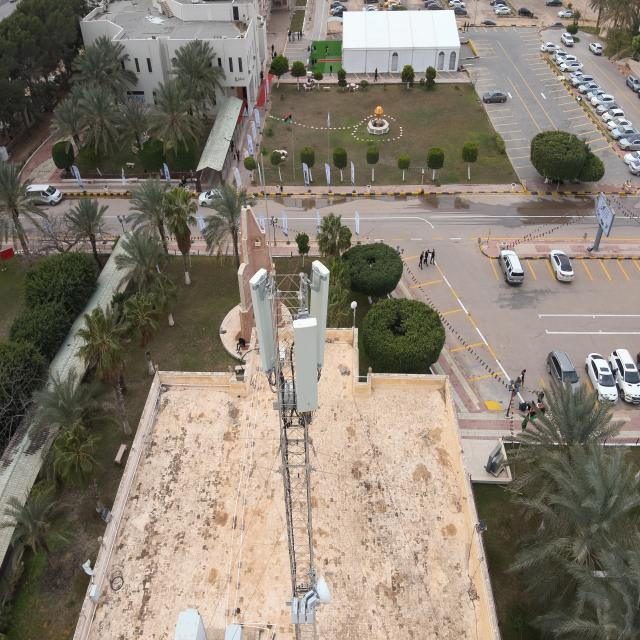antenna: (248, 267, 278, 375), (290, 314, 320, 416), (310, 259, 330, 367)
lighnig-rad: (258, 142, 275, 280)
microware-dish: (298, 572, 333, 612)
power-box: (287, 596, 316, 627)
radio-unit: (276, 380, 299, 406)
